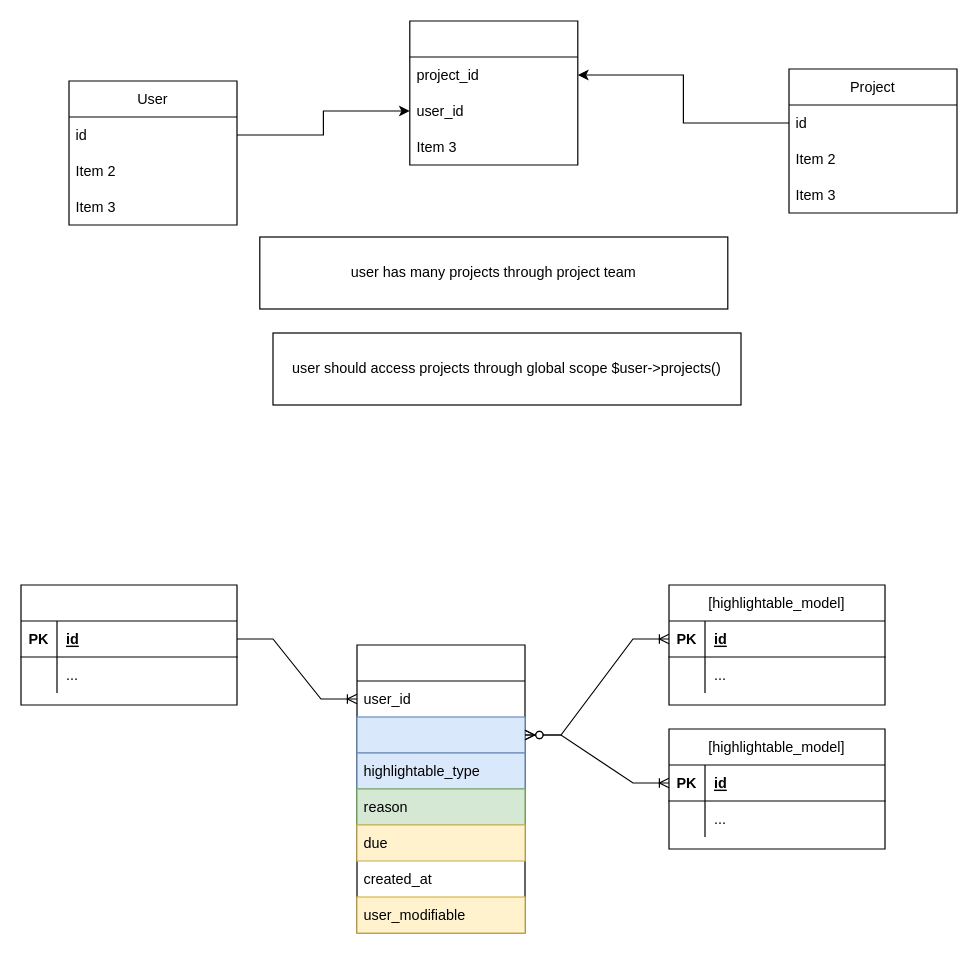
This 978x954 diagram has some shape labels left out. Each missing label, with the box of its shape:
ClientProjectTeam: (409, 20, 578, 165)
highlightable_id: (356, 716, 525, 753)
highlighted_items: (356, 644, 525, 933)
users: (20, 584, 237, 705)
